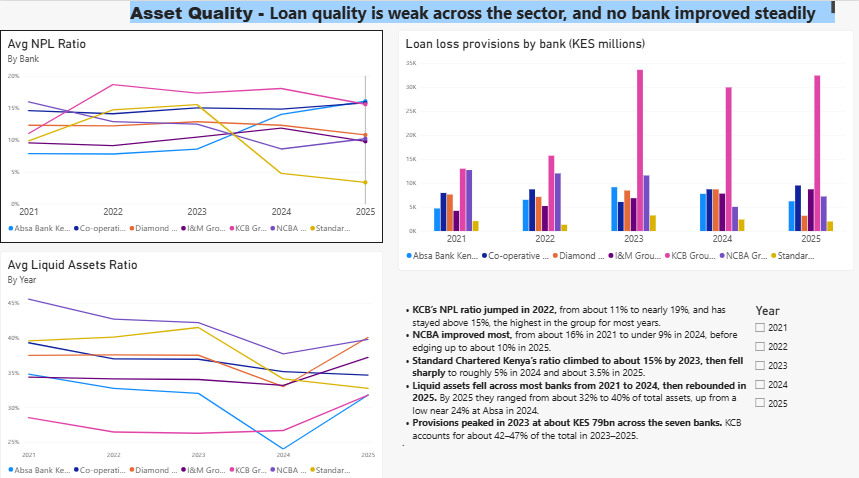

Layout of this report page (visuals, bound fields, positions):
{"tool":"powerbi","page":{"name":"Assets Quality","canvas":[1920,1080],"ordinal":3},"visuals":[{"type":"textbox","box":[289.9,0,1572.1,49.1],"z":0},{"type":"lineChart","title":"Avg NPL Ratio","fields":{"Category":["Working data.Year"],"Series":["Working data.Bank"],"Y":["Working data.Avg NPL Ratio"]},"box":[0,64.6,853.8,475.4],"z":1000},{"type":"lineChart","title":"Avg Liquid Assets Ratio","fields":{"Category":["Working data.Year"],"Series":["Working data.Bank"],"Y":["Working data.Avg Liquid Assets Ratio"]},"box":[0,557.5,853.8,521.1],"z":2000},{"type":"clusteredColumnChart","title":"Loan loss provisions by bank","fields":{"Category":["Working data.Year"],"Series":["Working data.Bank"],"Y":["Working data.Sum LLP"]},"box":[887.4,64.6,1016.7,537.3],"z":3000},{"type":"textbox","box":[887.4,639.7,789.1,294.9],"z":4000}]}

Visuals, with their boxes in screenshot pixels (x1, y1, x2, y2), scaled from the page's 1920x1080 canvas onto the 859x478 screenshot:
textbox: box=[130, 0, 833, 22]
"Avg NPL Ratio" lineChart: box=[0, 29, 382, 239]
"Avg Liquid Assets Ratio" lineChart: box=[0, 247, 382, 477]
"Loan loss provisions by bank" clusteredColumnChart: box=[397, 29, 852, 266]
textbox: box=[397, 283, 750, 414]
